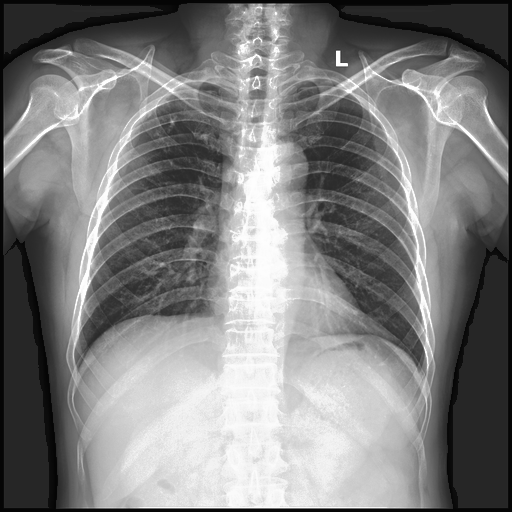Calcification: (407, 346, 435, 398), (292, 78, 339, 87)
Consolidation: (257, 142, 310, 195)
Pleural effusion: (407, 346, 435, 398)
Pneumothorax: (150, 101, 177, 168), (165, 112, 182, 131)
